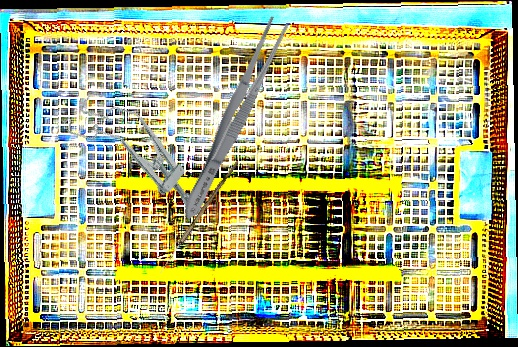Dressing Forceps: (174, 12, 294, 226)
Speculum: (58, 80, 225, 227)
Surgical Spoon: (158, 159, 239, 275)
